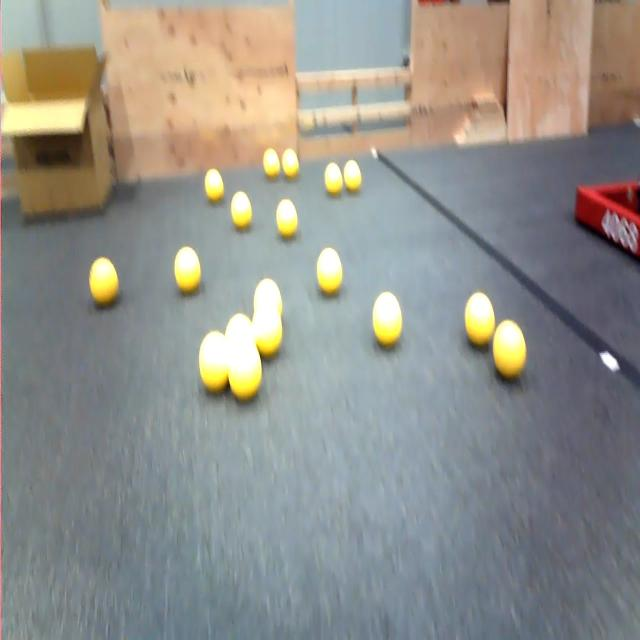fuel: (228, 342, 261, 401), (493, 320, 526, 379), (199, 331, 228, 392), (465, 292, 495, 347), (373, 292, 402, 347), (252, 305, 282, 358), (89, 257, 118, 305), (174, 247, 200, 293), (317, 248, 342, 295), (254, 279, 282, 315), (225, 313, 254, 344), (231, 191, 253, 229), (276, 200, 297, 238), (325, 162, 343, 195), (344, 159, 362, 192), (205, 169, 223, 201), (282, 148, 300, 178), (263, 148, 279, 178)
